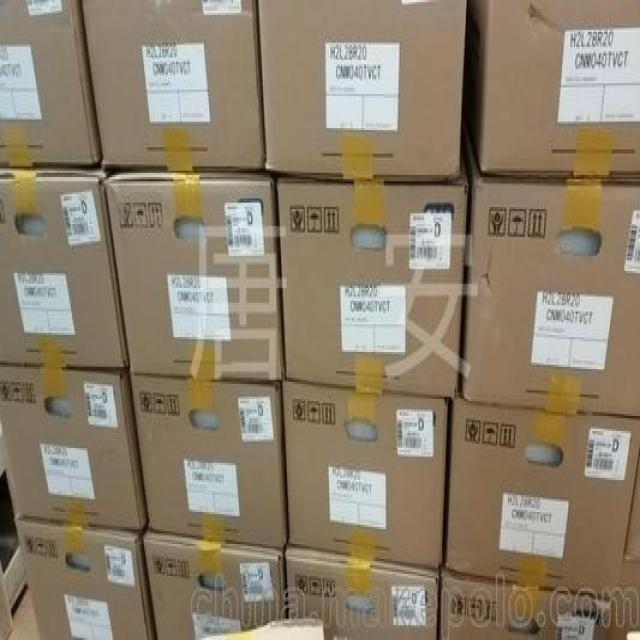box: (462, 171, 640, 416), (277, 177, 467, 399), (448, 401, 640, 599), (257, 0, 467, 181), (106, 171, 282, 380), (282, 380, 448, 570), (82, 2, 265, 166), (472, 0, 640, 177), (130, 373, 288, 548), (0, 169, 127, 365), (0, 363, 146, 529), (14, 516, 152, 640), (441, 563, 640, 640), (144, 529, 283, 638), (287, 546, 439, 638)
